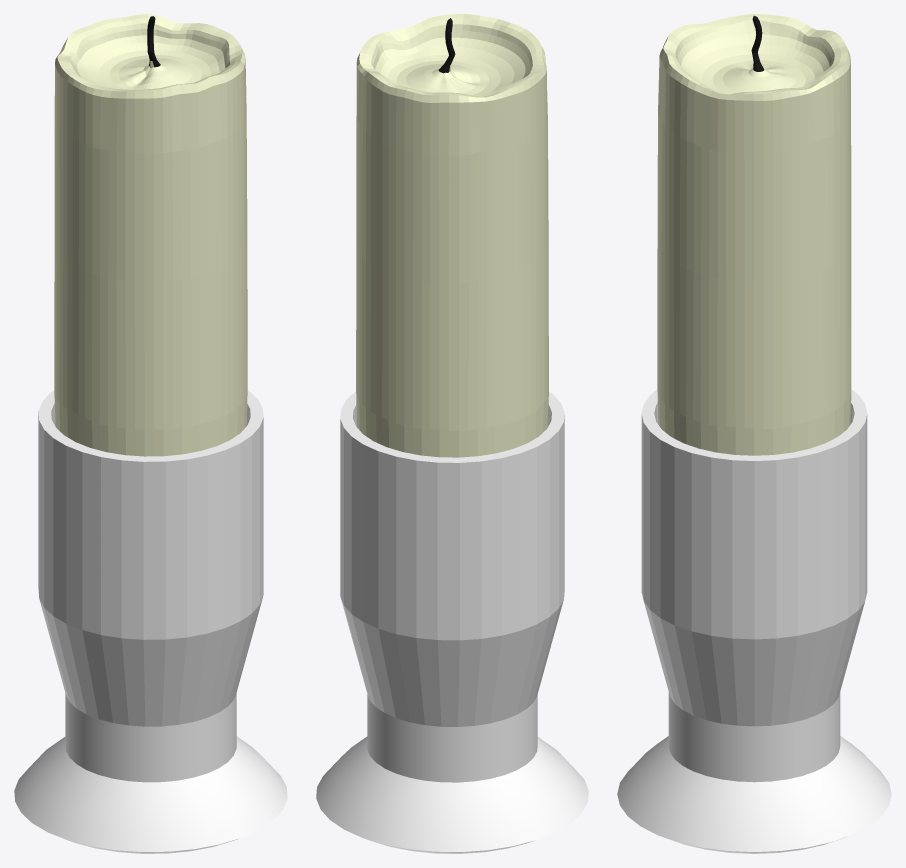
File: Candle.fbx
3 views of the same model, side by side, from view 1: azimuth 30°, elevation 25°; view 2: azimuth 150°, elevation 25°; view 3: azimuth 270°, elevation 25° (orthographic).
Parts seen in each view (by area): view 1: Candle_Holder, Candle; view 2: Candle_Holder, Candle; view 3: Candle_Holder, Candle.
Part boxes in pixels (x1,y1,x2,y2): Candle_Holder: (14,390,287,853); Candle: (54,14,247,456); Candle_Holder: (316,391,588,853); Candle: (356,14,548,457); Candle_Holder: (617,389,891,853); Candle: (657,14,851,455).
Size of the model in its own units: 5.53 by 17.49 by 5.53.
